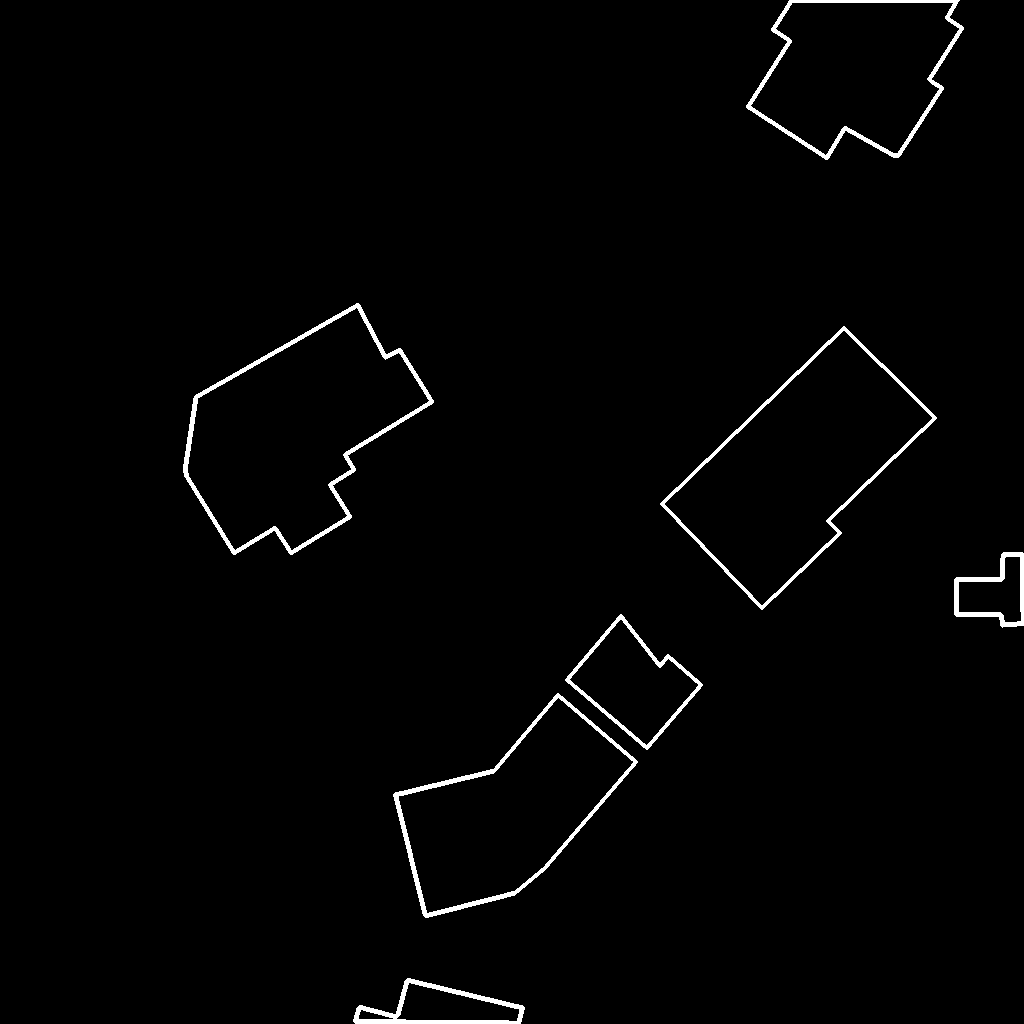building: (662, 328, 936, 609), (185, 305, 433, 554), (395, 695, 637, 917), (748, 0, 963, 159), (567, 616, 702, 749), (355, 980, 524, 1024), (956, 554, 1024, 626)
